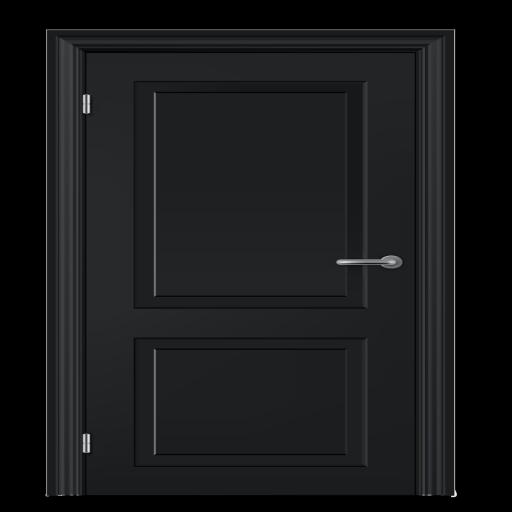Door: (46, 29, 456, 497)
